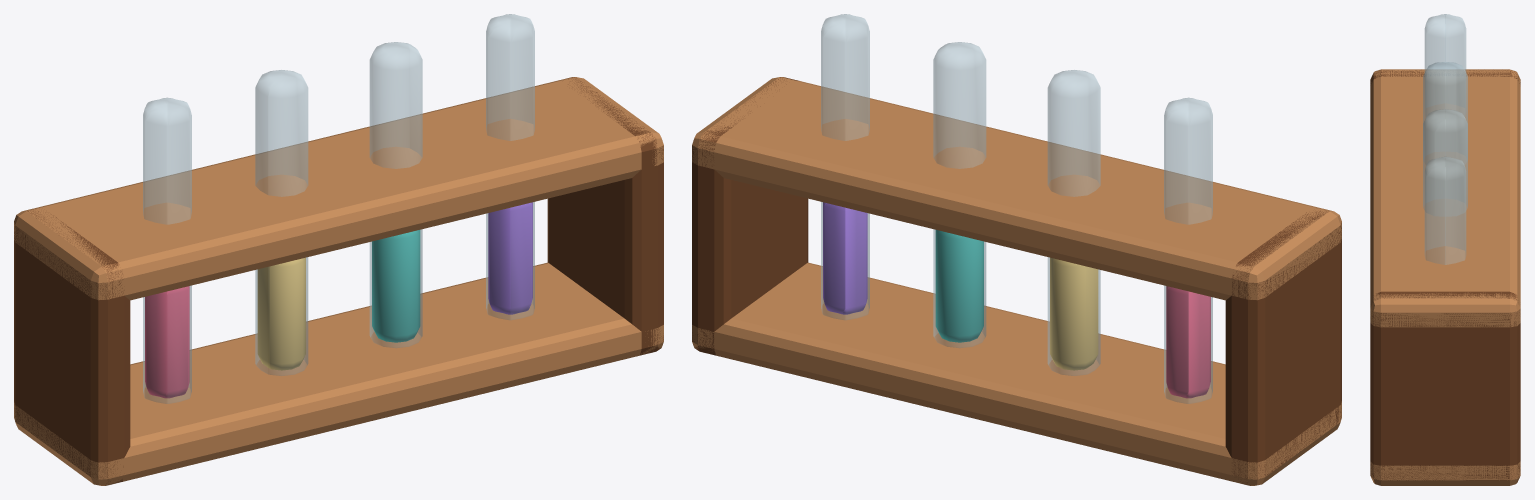
File: test_tube_rack.glb
The picture shows the model from 3 angles, left to right: view 1: azimuth 30°, elevation 25°; view 2: azimuth 150°, elevation 25°; view 3: azimuth 270°, elevation 25°; orthographic projection. The views are drawn at different scales.
Visible parts, largest first — view 1: test_tube_rack; view 2: test_tube_rack; view 3: test_tube_rack.
Boxes of the visible parts, <box> form: test_tube_rack: <box>14,14,663,485</box>; test_tube_rack: <box>692,14,1341,485</box>; test_tube_rack: <box>1370,14,1520,485</box>.
Size of the model in its own units: 0.3 by 0.165 by 0.08.
